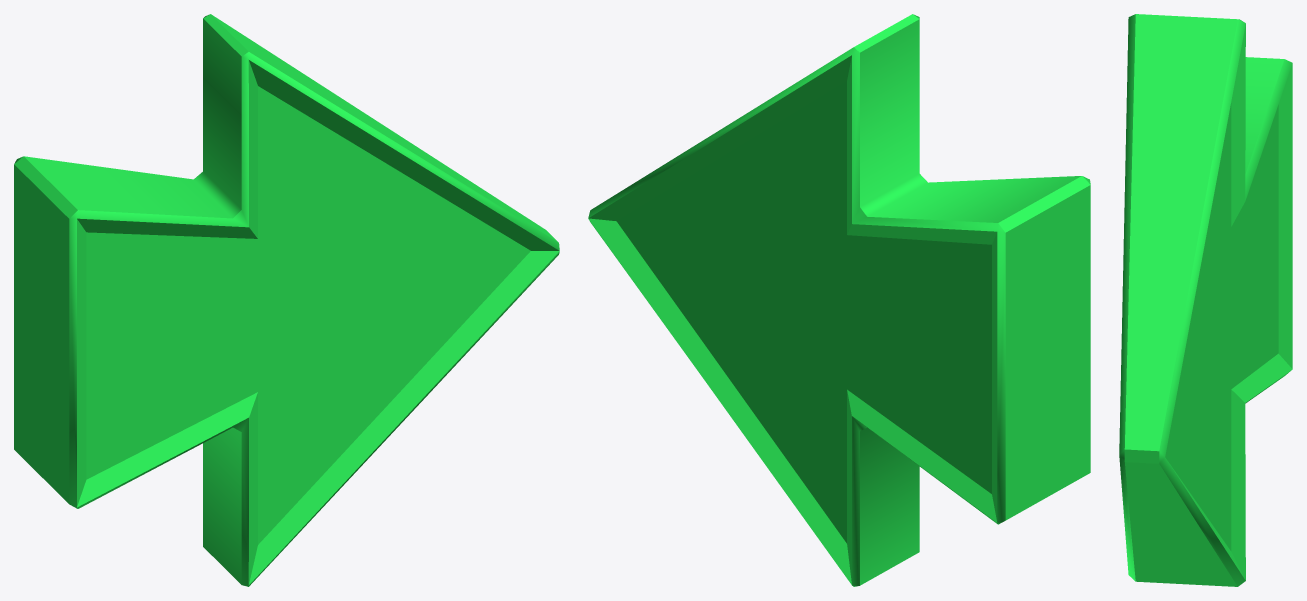
The model's file is arrowyellow.glb.
The picture shows the model from 3 angles, left to right: view 1: azimuth 30°, elevation 25°; view 2: azimuth 150°, elevation 25°; view 3: azimuth 270°, elevation 25°; orthographic projection. The views are drawn at different scales.
Visible parts, largest first — view 1: node_id38; view 2: node_id38; view 3: node_id38.
Boxes of the visible parts, <box> form: node_id38: <box>14,14,559,586</box>; node_id38: <box>588,14,1090,586</box>; node_id38: <box>1119,14,1292,586</box>.
Bounding box in the file's own units: 0.487 × 0.512 × 0.1418.
Materials: 1 (1 with a texture image).
